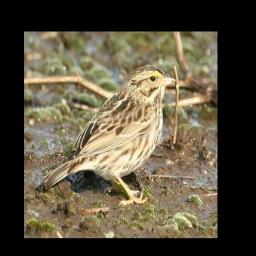Sparrow: (38, 63, 176, 208)
